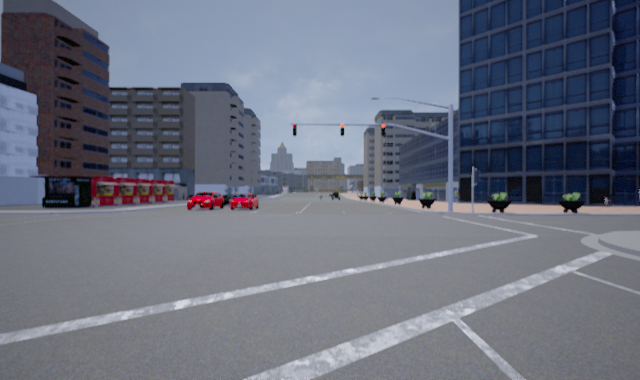traffic_light: (380, 122, 387, 137), (291, 122, 297, 137), (339, 123, 345, 137)
vehicle: (183, 190, 226, 210), (226, 192, 259, 210)
